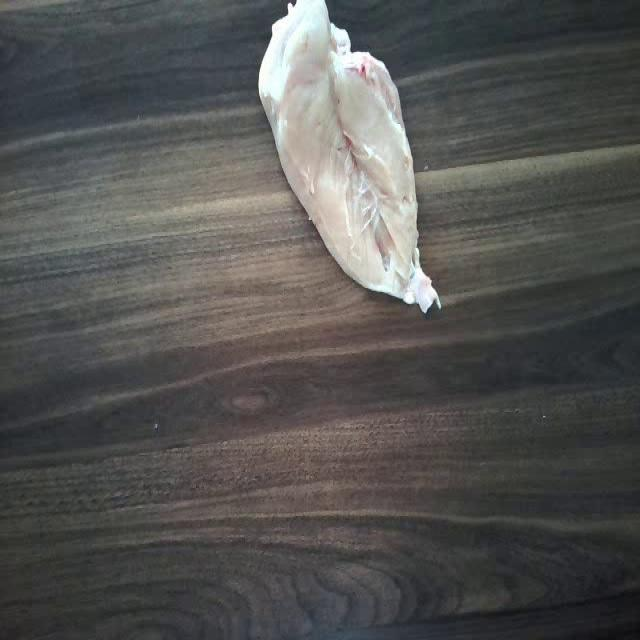breast: (244, 0, 443, 311)
